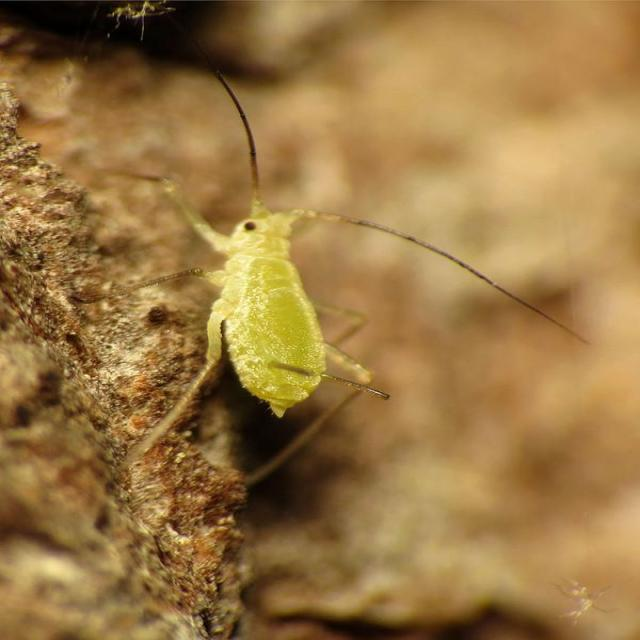Aphids: (108, 135, 389, 479)
